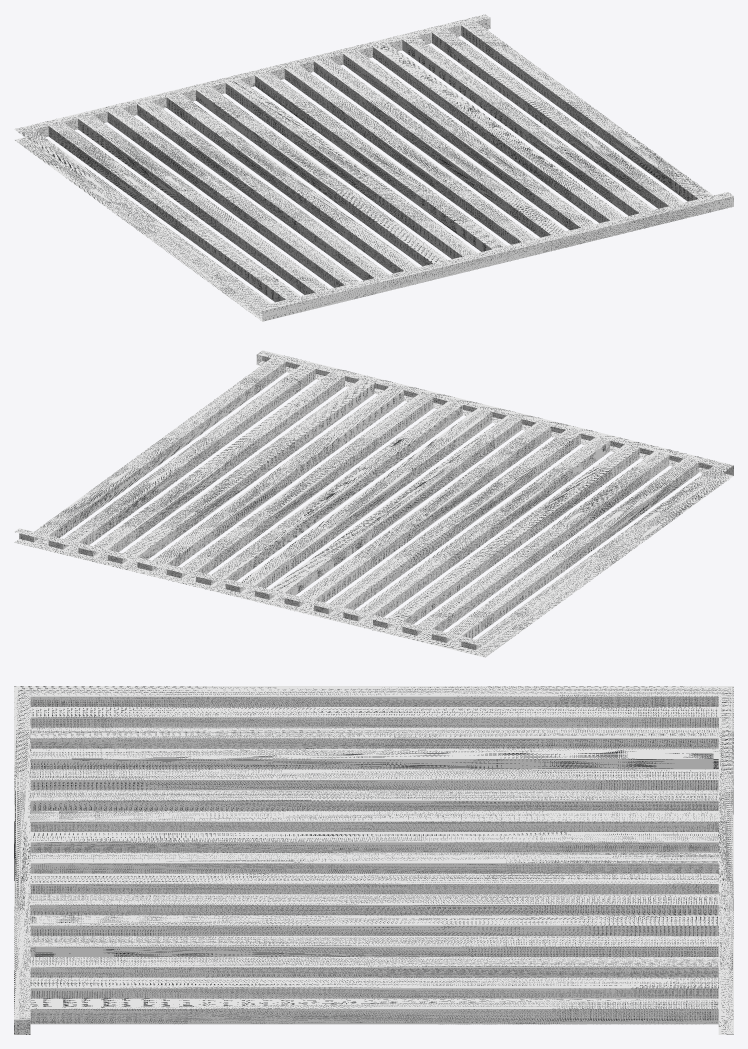
Rendered from original-90.obj.
3 views of the same model, one above another, from view 1: azimuth 30°, elevation 25°; view 2: azimuth 150°, elevation 25°; view 3: azimuth 270°, elevation 25° (orthographic). The views are drawn at different scales.
Visible parts, largest first — view 1: Component_2_2/Component_2/mesh3/mesh3-geometry/material_1#mesh3-; view 2: Component_2_2/Component_2/mesh3/mesh3-geometry/material_1#mesh3-; view 3: Component_2_2/Component_2/mesh3/mesh3-geometry/material_1#mesh3-.
Part boxes in pixels (left/top/right/bottom): Component_2_2/Component_2/mesh3/mesh3-geometry/material_1#mesh3-: left=14, top=14, right=733, bottom=321; Component_2_2/Component_2/mesh3/mesh3-geometry/material_1#mesh3-: left=14, top=350, right=733, bottom=657; Component_2_2/Component_2/mesh3/mesh3-geometry/material_1#mesh3-: left=14, top=686, right=733, bottom=1034.
Size of the model in its own units: 0.9943 by 0.0214 by 0.9074.
